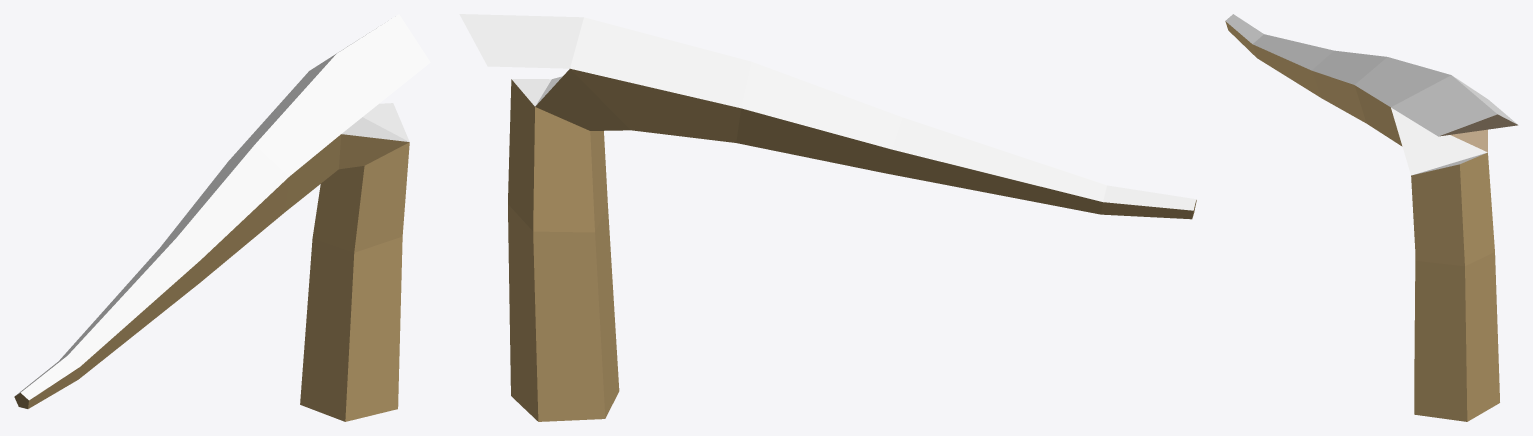
File: Simple_Tree_NoLeaves_crk_m_Snow_BT_02.fbx
3 renders of one model, left to right at view 1: azimuth 30°, elevation 25°; view 2: azimuth 150°, elevation 25°; view 3: azimuth 270°, elevation 25°, orthographic. The views are drawn at different scales.
Visible parts, largest first — view 1: Simple_Tree_NoLeaves_crk_m_Snow_BT_02; view 2: Simple_Tree_NoLeaves_crk_m_Snow_BT_02; view 3: Simple_Tree_NoLeaves_crk_m_Snow_BT_02.
Part boxes in pixels (x1,y1,x2,y2): Simple_Tree_NoLeaves_crk_m_Snow_BT_02: (14, 14, 430, 421); Simple_Tree_NoLeaves_crk_m_Snow_BT_02: (459, 14, 1196, 421); Simple_Tree_NoLeaves_crk_m_Snow_BT_02: (1225, 14, 1518, 421).
Bounding box in the file's own units: 351 × 224 × 185.
